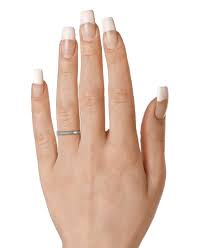hand: (20, 3, 182, 241)
